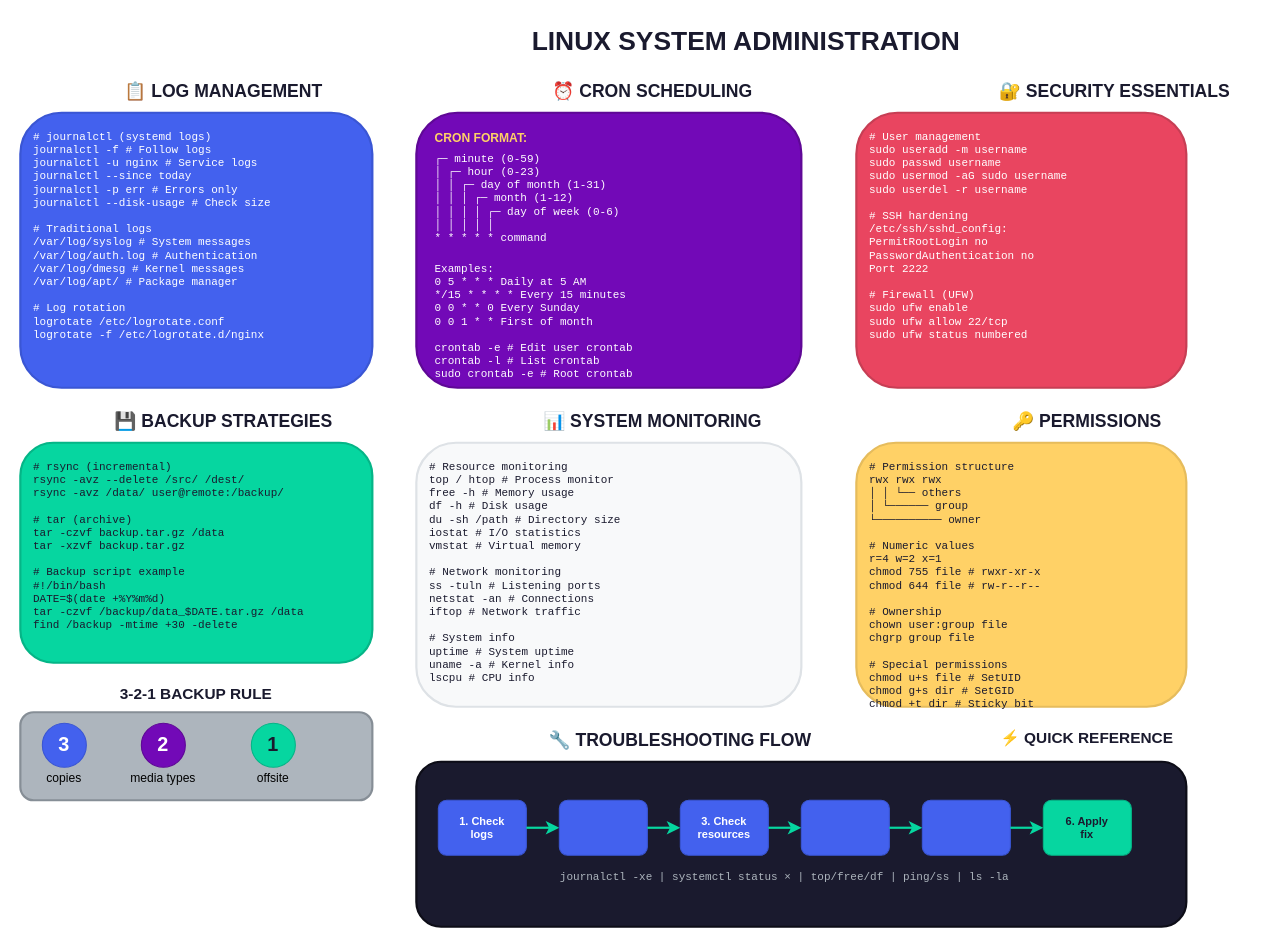
This 1271x946 diagram has some shape labels left out. The box of each missing label's shape, as (x1, y1, x2, y2) in pixels:
2. Check services: (558, 799, 647, 855)
4. Check network: (800, 799, 889, 855)
5. Check permissions: (921, 799, 1010, 855)
